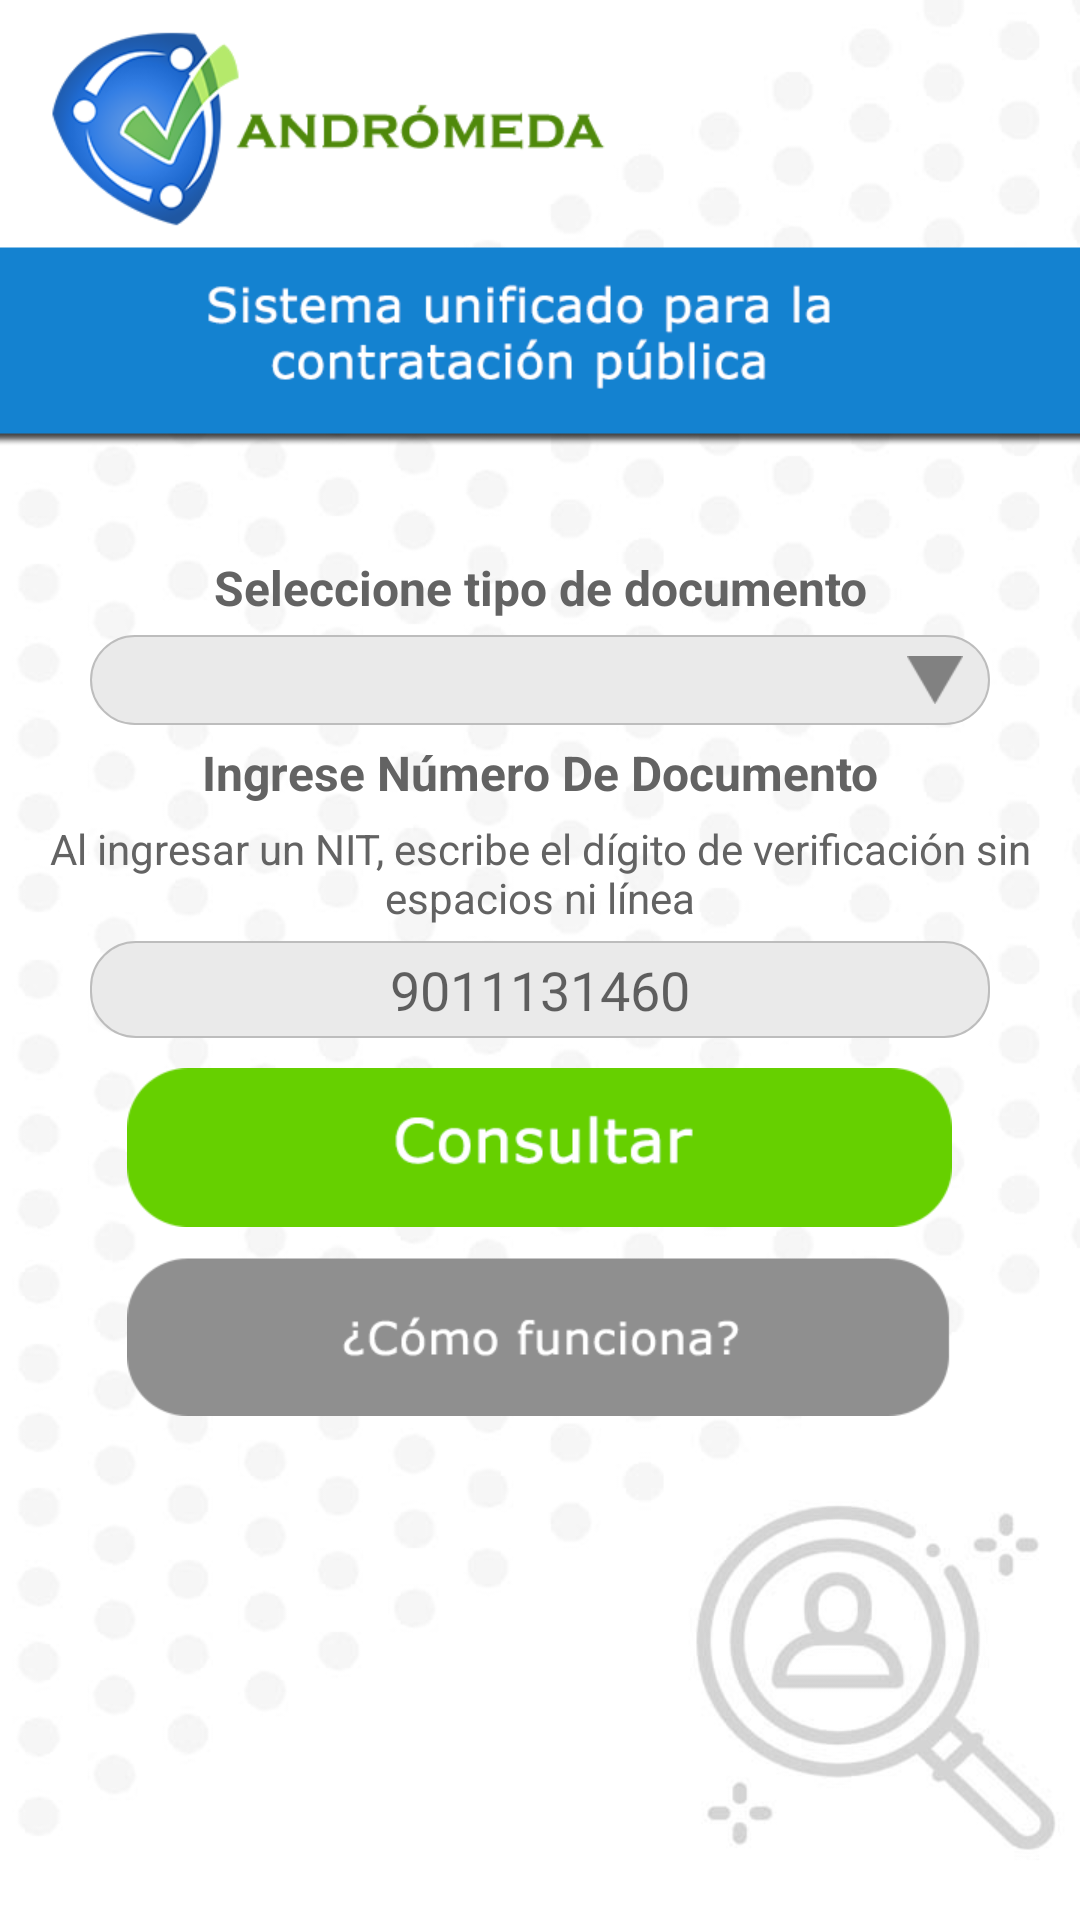

Screen size 1080 × 1920. Icon name, then its box in pixels as (left=x1, top=y1, right=x2, bottom=y2):
arrow: (left=907, top=656, right=963, bottom=704)
